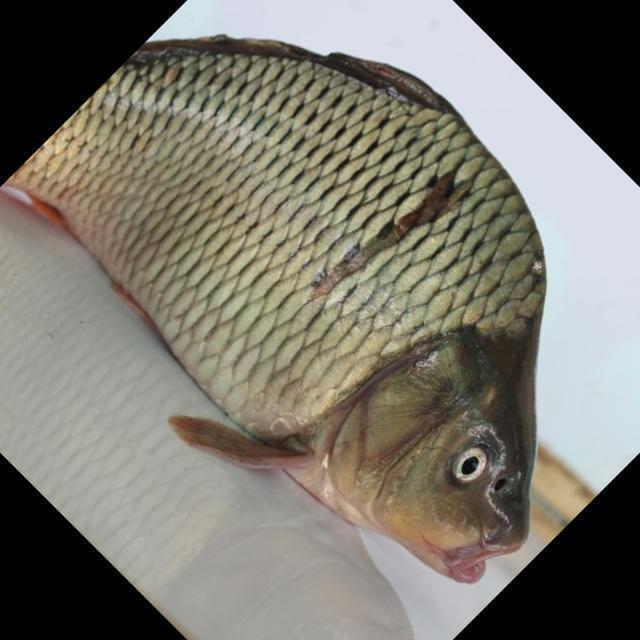Grass Carp: (10, 35, 551, 597)
